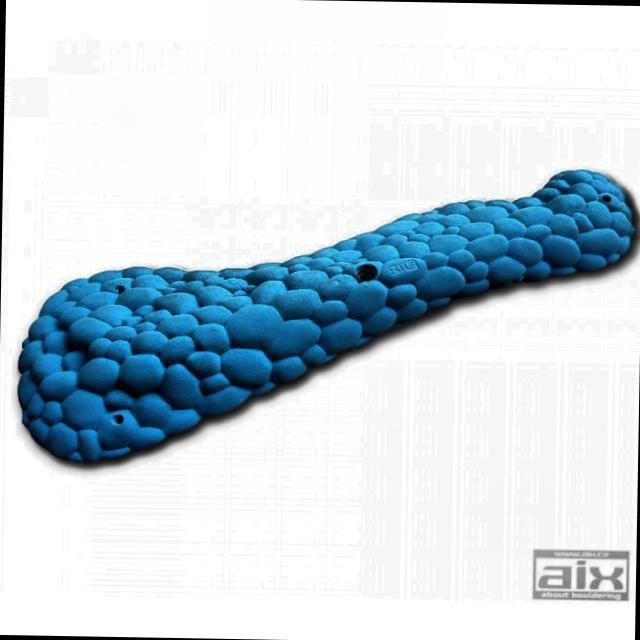Hold: (22, 155, 636, 481)
